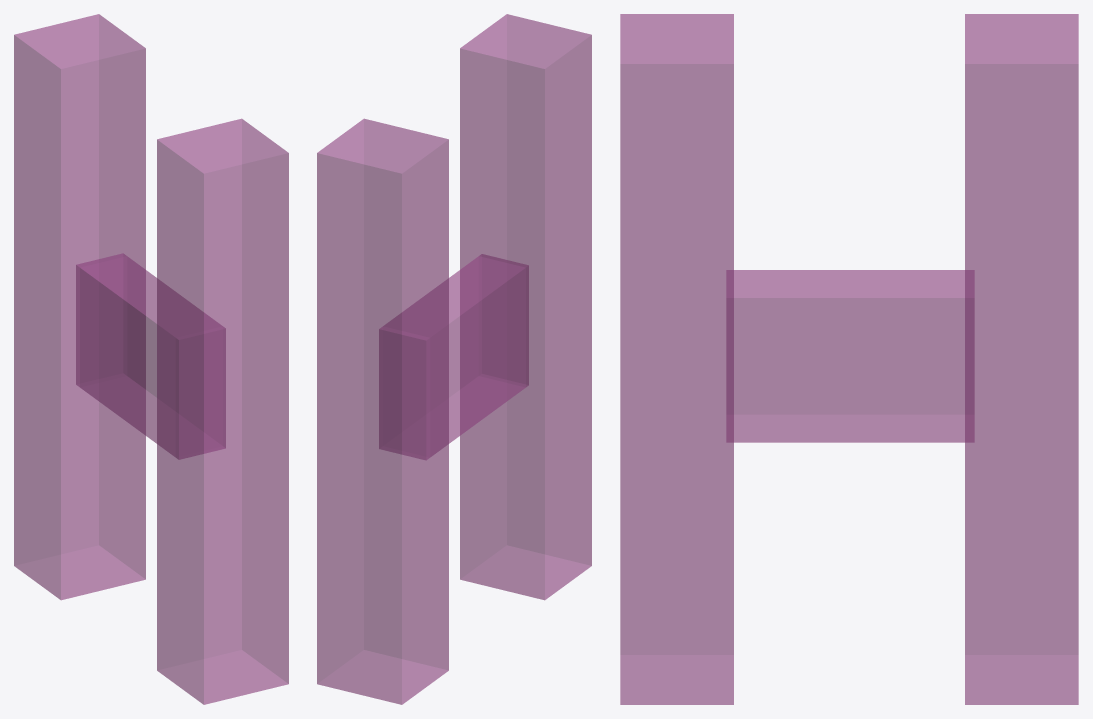
The model's file is SM_Bld_Pipe_Strut_Collision.fbx.
3 renders of one model, left to right at view 1: azimuth 30°, elevation 25°; view 2: azimuth 150°, elevation 25°; view 3: azimuth 270°, elevation 25°, orthographic. The views are drawn at different scales.
Visible parts, largest first — view 1: SM_Bld_Pipe_Strut_Collision; view 2: SM_Bld_Pipe_Strut_Collision; view 3: SM_Bld_Pipe_Strut_Collision.
Boxes of the visible parts, x1,y1,x2,y2 form: SM_Bld_Pipe_Strut_Collision: (14, 14, 288, 704); SM_Bld_Pipe_Strut_Collision: (317, 14, 591, 704); SM_Bld_Pipe_Strut_Collision: (620, 14, 1078, 704).
Bounding box in the file's own units: 33.88 × 202 × 131.
